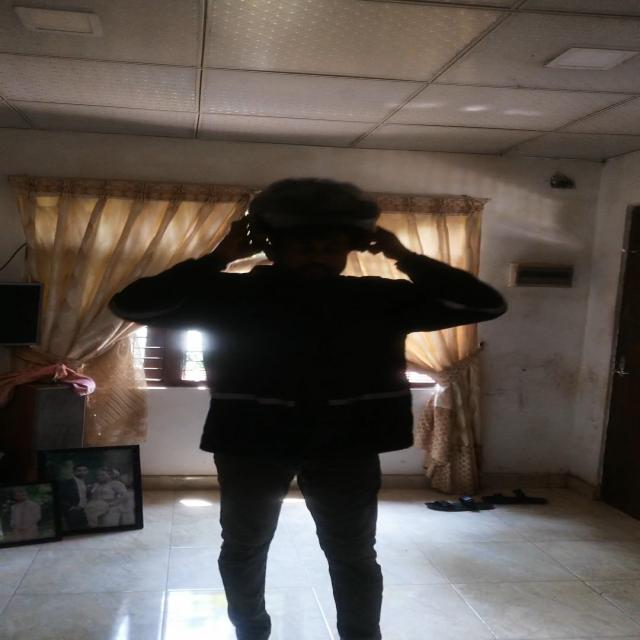Helmet_Wearer: (219, 174, 400, 289)
Jacket_Wearer: (138, 248, 496, 462)
Person: (133, 168, 511, 640)
